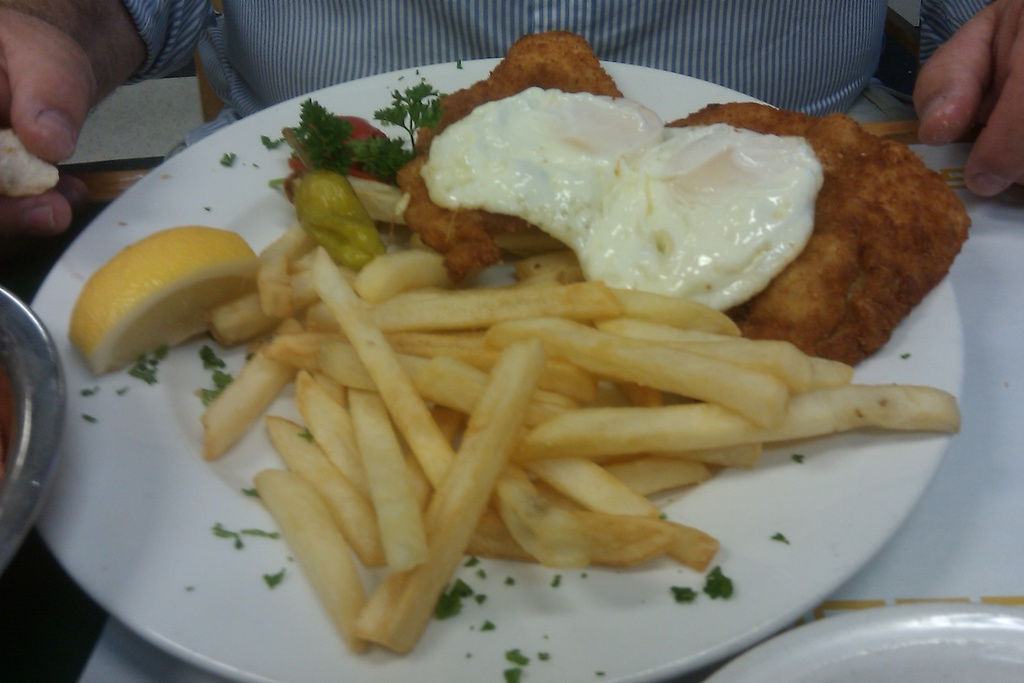French fries: (197, 162, 963, 660)
